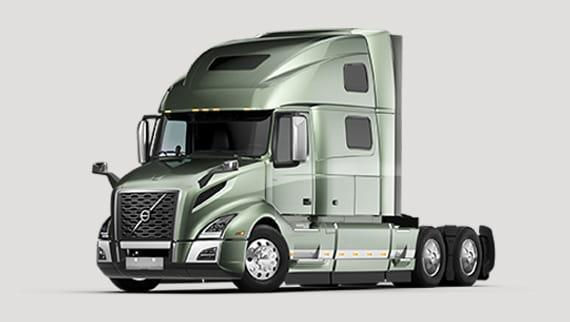truck: (90, 26, 495, 293)
